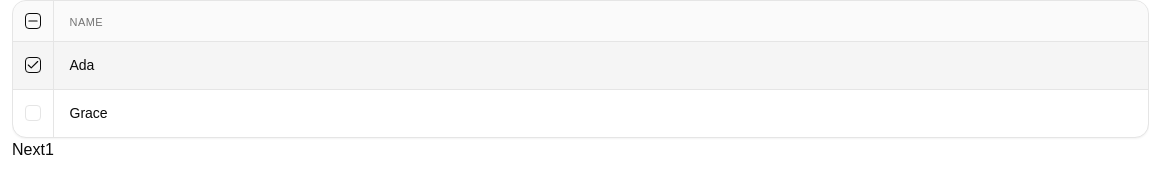
Test: selectionColumn › selects every row on the page from the header, which is mixed while part of it is
Step 1. Click the checkbox named "Select Page" → coordinates (33, 21), box [25, 13, 41, 29]
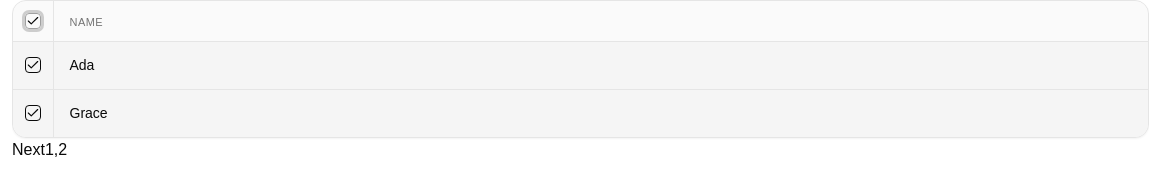
Check: the checkbox named "Select Page" is checked, box [25, 13, 41, 29]
Check: the text "1,2" is shown, box [45, 141, 67, 158]
